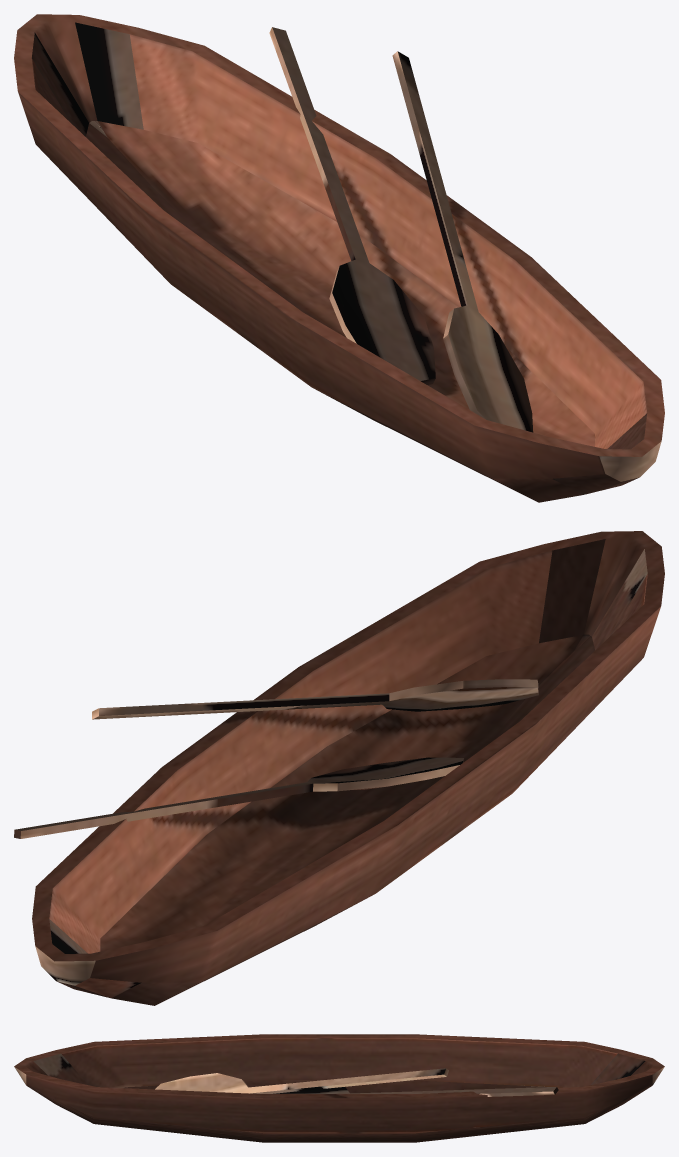
Rendered from Boat2.fbx.
3 renders of one model, top to bottom at view 1: azimuth 30°, elevation 25°; view 2: azimuth 150°, elevation 25°; view 3: azimuth 270°, elevation 25°, orthographic. The views are drawn at different scales.
Parts seen in each view (by area): view 1: Gom_Canoa2_00; view 2: Gom_Canoa2_00; view 3: Gom_Canoa2_00.
Part boxes in pixels (x1,y1,x2,y2): Gom_Canoa2_00: [14, 14, 664, 502]; Gom_Canoa2_00: [14, 531, 664, 1005]; Gom_Canoa2_00: [14, 1034, 664, 1142].
Size of the model in its own units: 0.7282 by 0.4751 by 2.65.
